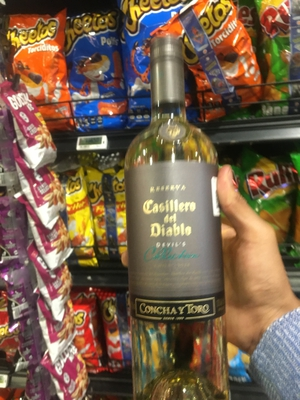casillero del diablo devils collection verde: (109, 37, 244, 400)
